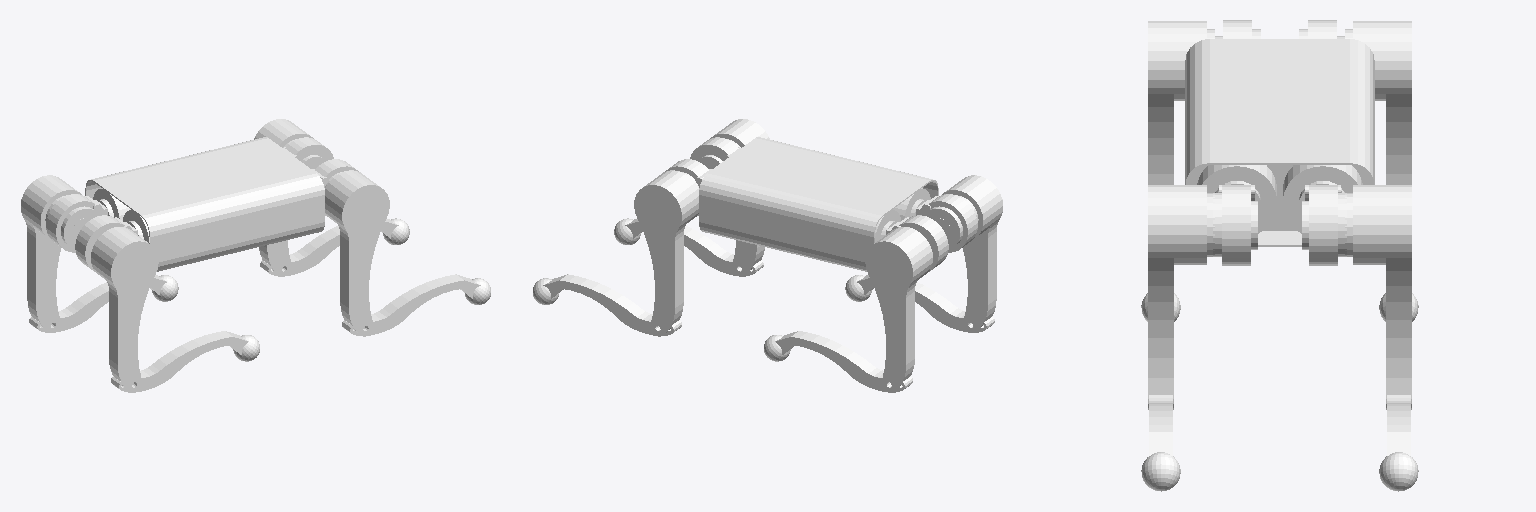
robot.urdf — QXHZZ_description:
<?xml version="1.0" encoding="utf-8"?>
<!-- This URDF was automatically created by SolidWorks to URDF Exporter! Originally created by Stephen Brawner (brawner@gmail.com) 
     Commit Version: 1.6.0-1-g15f4949  Build Version: 1.6.7594.29634
     For more information, please see http://wiki.ros.org/sw_urdf_exporter -->
<robot name="QXHZZ_description">
  <mujoco>
    <compiler meshdir="../meshes/" balanceinertia="true" discardvisual="false" autolimits="true" />
  </mujoco>
  <link name="base">
    <inertial>
      <origin xyz="-4.5586E-19 7.1229E-19 0" rpy="0 0 0" />
      <mass value="0" />
      <inertia ixx="7.5902E-06" ixy="-2.3832E-38" ixz="0" iyy="5.2382E-06" iyz="2.3545E-22" izz="1.1605E-05" />
    </inertial>
    <visual>
      <origin xyz="0 0 0" rpy="0 0 0" />
      <geometry>
        <mesh filename="../meshes/base_link.STL" />
      </geometry>
      <material name="">
        <color rgba="0.77647 0.75686 0.73725 1" />
      </material>
    </visual>
    <collision>
      <origin xyz="0 0 0" rpy="0 0 0" />
      <geometry>
        <mesh filename="../meshes/base_link.STL" />
      </geometry>
    </collision>
  </link>
  <link name="trunk">
    <inertial>
      <origin xyz="4.6426E-19 -2.7756E-17 2.7406E-17" rpy="0 0 0" />
      <mass value="5.36" />
      <inertia ixx="55862e-6" ixy="0.000000" ixz="0.000000" iyy="96172.757e-6" iyz="0.000000" izz="111591.548e-6" />
    </inertial>
    <visual>
      <origin xyz="0 0 0" rpy="0 0 0" />
      <geometry>
        <mesh filename="../meshes/shenzi.STL" />
      </geometry>
      <material name="">
        <color rgba="1 1 1 1" />
      </material>
    </visual>
    <collision>
      <origin xyz="0 0 0" rpy="0 0 0" />
      <geometry>
        <!-- <box size="0.325 0.27 0.16" /> -->
        <mesh filename="../meshes/shenzi.STL" />
      </geometry>
    </collision>
  </link>
  <joint name="floating_base" type="fixed">
    <origin xyz="0 0 0" rpy="0 0 0" />
    <parent link="base" />
    <child link="trunk" />
    <axis xyz="0 0 0" />
  </joint>
  <joint name="imu_joint" type="fixed">
    <parent link="trunk"/>
    <child link="imu_link"/>
    <origin rpy="0 0 0" xyz="0 0 0"/>
  </joint>
  <!-- #虚拟关节 -->
  <link name="imu_link">
    <inertial>
      <mass value="0.001"/>
      <origin rpy="0 0 0" xyz="0 0 0"/>
      <inertia ixx="0.0001" ixy="0" ixz="0" iyy="0.0001" iyz="0" izz="0.0001"/>
    </inertial>
    <visual>
      <origin rpy="0 0 0" xyz="0 0 0"/>
      <geometry>
        <box size="0.001 0.001 0.001"/>
      </geometry>
      <material name="red"/>
    </visual>
    <!-- <collision>
      <origin rpy="0 0 0" xyz="0 0 0"/>
      <geometry>
        <box size=".001 .001 .001"/>
      </geometry>
    </collision> -->
  </link>
  <link name="FL_hip">
    <inertial>
      <origin xyz="-0.040294 -0.0010631 6.4131E-06" rpy="0 0 0" />
      <mass value="0.80054" />
      <inertia ixx="567.387e-6" ixy="4.141e-6" ixz="0.000000" iyy="893.106e-6" iyz="0.000000" izz="630.935e-6" />
    </inertial>
    <visual>
      <origin xyz="0 0 0" rpy="0 0 0" />
      <geometry>
        <mesh filename="../meshes/yq1.STL" />
      </geometry>
      <material name="">
        <color rgba="1 1 1 1" />
      </material>
    </visual>
    <collision>
      <origin xyz="0 0 0" rpy="0 0 0" />
      <geometry>
        <mesh filename="../meshes/yq1.STL" />
      </geometry>
    </collision>
  </link>
  <joint name="FL_hip_joint" type="revolute">
    <origin xyz="0.22599 0.05 0" rpy="0 0 0" />
    <parent link="trunk" />
    <child link="FL_hip" />
    <axis xyz="1 0 0" />
    <limit lower="-1.570796" upper="1.570796" effort="48" velocity="25" />
  </joint>
  <link name="FL_thigh">
    <inertial>
      <origin xyz="0.0030535 -0.015391 -0.04077" rpy="0 0 0" />
      <mass value="1.22" />
      <inertia ixx="8707.219e-6" ixy="0.000000" ixz="487.508e-6" iyy="8424.086e-6" iyz="0.000000" izz="1382.252e-6" />
    </inertial>
    <visual>
      <origin xyz="0 0 0" rpy="0 0 0" />
      <geometry>
        <mesh filename="../meshes/zh2.STL" />
      </geometry>
      <material name="">
        <color rgba="1 1 1 1" />
      </material>
    </visual>
    <collision>
      <origin xyz="0 0 0" rpy="0 0 0" />
      <geometry>
        <mesh filename="../meshes/zh2.STL" />
      </geometry>
    </collision>
  </link>
  <joint name="FL_thigh_joint" type="revolute">
    <origin xyz="0 0.088241 0" rpy="0 0 0" />
    <parent link="FL_hip" />
    <child link="FL_thigh" />
    <axis xyz="0 1 0" />
    <limit lower="-1.570796" upper="3.141593" effort="48" velocity="25" />
  </joint>
  <link name="FL_calf">
    <inertial>
      <origin xyz="-0.0088301 -1.0588E-06 -0.12441" rpy="0 0 0" />
      <mass value="0.53021" />
      <inertia ixx="4322.324e-6" ixy="-0.001e-6" ixz="-254.221e-6" iyy="4363.782e-6" iyz="-0.004e-6" izz="70.443e-6" />
    </inertial>
    <visual>
      <origin xyz="0 0 0" rpy="0 0 0" />
      <geometry>
        <mesh filename="../meshes/zh3.STL" />
      </geometry>
      <material name="">
        <color rgba="1 1 1 1" />
      </material>
    </visual>
    <collision>
      <origin xyz="0 0 0" rpy="0 0 0" />
      <geometry>
        <mesh filename="../meshes/zh3.STL" />
      </geometry>
    </collision>
  </link>
  <joint name="FL_calf_joint" type="revolute">
    <origin xyz="0 0 -0.22023" rpy="0 0 0" />
    <parent link="FL_thigh" />
    <child link="FL_calf" />
    <axis xyz="0 1 0" />
    <limit lower="-2.705260" upper="-0.523599" effort="48" velocity="25" />
  </joint>
  <joint name="FL_foot_fixed" type="fixed" dont_collapse="true">
    <origin rpy="0 0 0" xyz="0 0 -0.22"/>
    <parent link="FL_calf"/>
    <child link="FL_foot"/>
  </joint>
  <!-- #前右固定脚踝 -->
  <link name="FL_foot">
    <visual>
      <origin rpy="0 0 0" xyz="0 0 0"/>
      <geometry>
        <sphere radius="0.01"/>
      </geometry>
      <material name="orange"/>
    </visual>
    <collision>
      <origin rpy="0 0 0" xyz="0 0 0"/>
      <geometry>
        <sphere radius="0.02"/>
      </geometry>
    </collision>
    <inertial>
      <mass value="0.06"/>
      <inertia ixx="9.6e-06" ixy="0.0" ixz="0.0" iyy="9.6e-06" iyz="0.0" izz="9.6e-06"/>
    </inertial>
  </link>
  <link name="FR_hip">
    <inertial>
      <origin xyz="-0.040294 0.0010631 6.4131E-06" rpy="0 0 0" />
      <mass value="0.80054" />
      <inertia ixx="567.387e-6" ixy="4.141e-6" ixz="0.000000" iyy="893.106e-6" iyz="0.000000" izz="630.935e-6" />
    </inertial>
    <visual>
      <origin xyz="0 0 0" rpy="0 0 0" />
      <geometry>
        <mesh filename="../meshes/zq1.STL" />
      </geometry>
      <material name="">
        <color rgba="1 1 1 1" />
      </material>
    </visual>
    <collision>
      <origin xyz="0 0 0" rpy="0 0 0" />
      <geometry>
        <mesh filename="../meshes/zq1.STL" />
      </geometry>
    </collision>
  </link>
  <joint name="FR_hip_joint" type="revolute">
    <origin xyz="0.22599 -0.05 0" rpy="0 0 0" />
    <parent link="trunk" />
    <child link="FR_hip" />
    <axis xyz="1 0 0" />
    <limit lower="-1.570796" upper="1.570796" effort="48" velocity="25" />
  </joint>
  <link name="FR_thigh">
    <inertial>
      <origin xyz="0.0030535 0.015391 -0.04077" rpy="0 0 0" />
      <mass value="1.22" />
      <inertia ixx="8707.219e-6" ixy="0.000000" ixz="487.508e-6" iyy="8424.086e-6" iyz="0.000000" izz="1382.252e-6" />
    </inertial>
    <visual>
      <origin xyz="0 0 0" rpy="0 0 0" />
      <geometry>
        <mesh filename="../meshes/yh2.STL" />
      </geometry>
      <material name="">
        <color rgba="1 1 1 1" />
      </material>
    </visual>
    <collision>
      <origin xyz="0 0 0" rpy="0 0 0" />
      <geometry>
        <mesh filename="../meshes/yh2.STL" />
      </geometry>
    </collision>
  </link>
  <joint name="FR_thigh_joint" type="revolute">
    <origin xyz="0 -0.088241 0" rpy="0 0 0" />
    <parent link="FR_hip" />
    <child link="FR_thigh" />
    <axis xyz="0 1 0" />
    <limit lower="-1.570796" upper="3.141593" effort="48" velocity="25" />
  </joint>
  <link name="FR_calf">
    <inertial>
      <origin xyz="-0.0088301 1.0703E-06 -0.12441" rpy="0 0 0" />
      <mass value="0.53021" />
      <inertia ixx="4322.324e-6" ixy="-0.001e-6" ixz="-254.221e-6" iyy="4363.782e-6" iyz="-0.004e-6" izz="70.443e-6" />
    </inertial>
    <visual>
      <origin xyz="0 0 0" rpy="0 0 0" />
      <geometry>
        <mesh filename="../meshes/yh3.STL" />
      </geometry>
      <material name="">
        <color rgba="1 1 1 1" />
      </material>
    </visual>
    <collision>
      <origin xyz="0 0 0" rpy="0 0 0" />
      <geometry>
        <mesh filename="../meshes/yh3.STL" />
      </geometry>
    </collision>
  </link>
  <joint name="FR_calf_joint" type="revolute">
    <origin xyz="0 0 -0.22023" rpy="0 0 0" />
    <parent link="FR_thigh" />
    <child link="FR_calf" />
    <axis xyz="0 1 0" />
    <limit lower="-2.705260" upper="-0.523599" effort="48" velocity="25" />
  </joint>
  <joint name="FR_foot_fixed" type="fixed" dont_collapse="true">
    <origin rpy="0 0 0" xyz="0 0 -0.22"/>
    <parent link="FR_calf"/>
    <child link="FR_foot"/>
  </joint>
  <!-- #前右固定脚踝 -->
  <link name="FR_foot">
    <visual>
      <origin rpy="0 0 0" xyz="0 0 0"/>
      <geometry>
        <sphere radius="0.01"/>
      </geometry>
      <material name="orange"/>
    </visual>
    <collision>
      <origin rpy="0 0 0" xyz="0 0 0"/>
      <geometry>
        <sphere radius="0.02"/>
      </geometry>
    </collision>
    <inertial>
      <mass value="0.06"/>
      <inertia ixx="9.6e-06" ixy="0.0" ixz="0.0" iyy="9.6e-06" iyz="0.0" izz="9.6e-06"/>
    </inertial>
  </link>
  <link name="RL_hip">
    <inertial>
      <origin xyz="0.040294 -0.0010631 6.4131E-06" rpy="0 0 0" />
      <mass value="0.80054" />
      <inertia ixx="567.387e-6" ixy="4.141e-6" ixz="0.000000" iyy="893.106e-6" iyz="0.000000" izz="630.935e-6" />
    </inertial>
    <visual>
      <origin xyz="0 0 0" rpy="0 0 0" />
      <geometry>
        <mesh filename="../meshes/zh1.STL" />
      </geometry>
      <material name="">
        <color rgba="1 1 1 1" />
      </material>
    </visual>
    <collision>
      <origin xyz="0 0 0" rpy="0 0 0" />
      <geometry>
        <mesh filename="../meshes/zh1.STL" />
      </geometry>
    </collision>
  </link>
  <joint name="RL_hip_joint" type="revolute">
    <origin xyz="-0.22599 0.05 0" rpy="0 0 0" />
    <parent link="trunk" />
    <child link="RL_hip" />
    <axis xyz="1 0 0" />
    <limit lower="-1.570796" upper="1.570796" effort="48" velocity="25" />
  </joint>
  <link name="RL_thigh">
    <inertial>
      <origin xyz="-0.0030535 -0.015391 -0.04077" rpy="0 0 0" />
      <mass value="1.22" />
      <inertia ixx="8707.219e-6" ixy="0.000000" ixz="487.508e-6" iyy="8424.086e-6" iyz="0.000000" izz="1382.252e-6" />
    </inertial>
    <visual>
      <origin xyz="0 0 0" rpy="0 0 0" />
      <geometry>
        <mesh filename="../meshes/zh2.STL" />
      </geometry>
      <material name="">
        <color rgba="1 1 1 1" />
      </material>
    </visual>
    <collision>
      <origin xyz="0 0 0" rpy="0 0 0" />
      <geometry>
        <mesh filename="../meshes/zh2.STL" />
      </geometry>
    </collision>
  </link>
  <joint name="RL_thigh_joint" type="revolute">
    <origin xyz="0 0.088241 0" rpy="0 0 0" />
    <parent link="RL_hip" />
    <child link="RL_thigh" />
    <axis xyz="0 1 0" />
    <limit lower="-1.570796" upper="3.141593" effort="48" velocity="25" />
  </joint>
  <link name="RL_calf">
    <inertial>
      <origin xyz="0.0088301 -1.0703E-06 -0.12441" rpy="0 0 0" />
      <mass value="0.53021" />
      <inertia ixx="4322.324e-6" ixy="-0.001e-6" ixz="-254.221e-6" iyy="4363.782e-6" iyz="-0.004e-6" izz="70.443e-6" />
    </inertial>
    <visual>
      <origin xyz="0 0 0" rpy="0 0 0" />
      <geometry>
        <mesh filename="../meshes/zh3.STL" />
      </geometry>
      <material name="">
        <color rgba="1 1 1 1" />
      </material>
    </visual>
    <collision>
      <origin xyz="0 0 0" rpy="0 0 0" />
      <geometry>
        <mesh filename="../meshes/zh3.STL" />
      </geometry>
    </collision>
  </link>
  <joint name="RL_calf_joint" type="revolute">
    <origin xyz="0 0 -0.22023" rpy="0 0 0" />
    <parent link="RL_thigh" />
    <child link="RL_calf" />
    <axis xyz="0 1 0" />
    <limit lower="-2.705260" upper="-0.523599" effort="48" velocity="25" />
  </joint>
  <joint name="RL_foot_fixed" type="fixed" dont_collapse="true">
    <origin rpy="0 0 0" xyz="0 0 -0.22"/>
    <parent link="RL_calf"/>
    <child link="RL_foot"/>
  </joint>
  <!-- #前右固定脚踝 -->
  <link name="RL_foot">
    <visual>
      <origin rpy="0 0 0" xyz="0 0 0"/>
      <geometry>
        <sphere radius="0.01"/>
      </geometry>
      <material name="orange"/>
    </visual>
    <collision>
      <origin rpy="0 0 0" xyz="0 0 0"/>
      <geometry>
        <sphere radius="0.02"/>
      </geometry>
    </collision>
    <inertial>
      <mass value="0.06"/>
      <inertia ixx="9.6e-06" ixy="0.0" ixz="0.0" iyy="9.6e-06" iyz="0.0" izz="9.6e-06"/>
    </inertial>
  </link>
  <link name="RR_hip">
    <inertial>
      <origin xyz="0.040294 0.0010631 6.4131E-06" rpy="0 0 0" />
      <mass value="0.80054" />
      <inertia ixx="567.387e-6" ixy="4.141e-6" ixz="0.000000" iyy="893.106e-6" iyz="0.000000" izz="630.935e-6" />
    </inertial>
    <visual>
      <origin xyz="0 0 0" rpy="0 0 0" />
      <geometry>
        <mesh filename="../meshes/yh1.STL" />
      </geometry>
      <material name="">
        <color rgba="1 1 1 1" />
      </material>
    </visual>
    <collision>
      <origin xyz="0 0 0" rpy="0 0 0" />
      <geometry>
        <mesh filename="../meshes/yh1.STL" />
      </geometry>
    </collision>
  </link>
  <joint name="RR_hip_joint" type="revolute">
    <origin xyz="-0.22599 -0.05 0" rpy="0 0 0" />
    <parent link="trunk" />
    <child link="RR_hip" />
    <axis xyz="1 0 0" />
    <limit lower="-1.570796" upper="1.570796" effort="48" velocity="25" />
  </joint>
  <link name="RR_thigh">
    <inertial>
      <origin xyz="-0.0030535 0.015391 -0.04077" rpy="0 0 0" />
      <mass value="1.22" />
      <inertia ixx="8707.219e-6" ixy="0.000000" ixz="487.508e-6" iyy="8424.086e-6" iyz="0.000000" izz="1382.252e-6" />
    </inertial>
    <visual>
      <origin xyz="0 0 0" rpy="0 0 0" />
      <geometry>
        <mesh filename="../meshes/yh2.STL" />
      </geometry>
      <material name="">
        <color rgba="1 1 1 1" />
      </material>
    </visual>
    <collision>
      <origin xyz="0 0 0" rpy="0 0 0" />
      <geometry>
        <mesh filename="../meshes/yh2.STL" />
      </geometry>
    </collision>
  </link>
  <joint name="RR_thigh_joint" type="revolute">
    <origin xyz="0 -0.088241 0" rpy="0 0 0" />
    <parent link="RR_hip" />
    <child link="RR_thigh" />
    <axis xyz="0 1 0" />
    <limit lower="-1.570796" upper="3.141593" effort="48" velocity="25" />
  </joint>
  <link name="RR_calf">
    <inertial>
      <origin xyz="0.0088301 1.0588E-06 -0.12441" rpy="0 0 0" />
      <mass value="0.53021" />
      <inertia ixx="4322.324e-6" ixy="-0.001e-6" ixz="-254.221e-6" iyy="4363.782e-6" iyz="-0.004e-6" izz="70.443e-6" />
    </inertial>
    <visual>
      <origin xyz="0 0 0" rpy="0 0 0" />
      <geometry>
        <mesh filename="../meshes/yh3.STL" />
      </geometry>
      <material name="">
        <color rgba="1 1 1 1" />
      </material>
    </visual>
    <collision>
      <origin xyz="0 0 0" rpy="0 0 0" />
      <geometry>
        <mesh filename="../meshes/yh3.STL" />
      </geometry>
    </collision>
  </link>
  <joint name="RR_calf_joint" type="revolute">
    <origin xyz="0 0 -0.22023" rpy="0 0 0" />
    <parent link="RR_thigh" />
    <child link="RR_calf" />
    <axis xyz="0 1 0" />
    <limit lower="-2.705260" upper="-0.523599" effort="48" velocity="25" />
  </joint>
  <joint name="RR_foot_fixed" type="fixed" dont_collapse="true">
    <origin rpy="0 0 0" xyz="0 0 -0.22"/>
    <parent link="RR_calf"/>
    <child link="RR_foot"/>
  </joint>
  <!-- #前右固定脚踝 -->
  <link name="RR_foot">
    <visual>
      <origin rpy="0 0 0" xyz="0 0 0"/>
      <geometry>
        <sphere radius="0.01"/>
      </geometry>
      <material name="orange"/>
    </visual>
    <collision>
      <origin rpy="0 0 0" xyz="0 0 0"/>
      <geometry>
        <sphere radius="0.02"/>
      </geometry>
    </collision>
    <inertial>
      <mass value="0.06"/>
      <inertia ixx="9.6e-06" ixy="0.0" ixz="0.0" iyy="9.6e-06" iyz="0.0" izz="9.6e-06"/>
    </inertial>
  </link>
</robot>

--- What the picture shows (computed from the rendered views, not written in the file) ---
Views: 3 orthographic renders of the robot side by side, from view 1: azimuth 30°, elevation 25°; view 2: azimuth 150°, elevation 25°; view 3: azimuth 270°, elevation 25°.
Robot: QXHZZ_description — 19 links, 18 joints (12 revolute, 6 fixed); root link base; default pose: joints at zero except 4 at the middle of their limits (FL_calf_joint = -1.61, FR_calf_joint = -1.61, RL_calf_joint = -1.61, RR_calf_joint = -1.61).
Visible links, largest first — view 1: trunk, RR_thigh, FR_thigh, RL_thigh, RR_calf, FR_calf, RL_hip, FL_calf, RL_calf, FL_thigh, RR_hip, FL_hip (+1 smaller); view 2: trunk, RL_thigh, FL_thigh, RR_thigh, RL_calf, FL_calf, RR_hip, FR_calf, RR_calf, FR_thigh, RL_hip, FR_hip (+1 smaller); view 3: trunk, FL_thigh, FR_thigh, RL_thigh, RR_thigh, FL_hip, FR_hip, FL_calf, FR_calf, RL_hip, RR_hip.
Link boxes in pixels (box(x1,y1,x2,y2)): trunk: box(85, 137, 324, 271); RR_thigh: box(91, 227, 158, 392); FR_thigh: box(325, 170, 389, 336); RL_thigh: box(21, 175, 81, 332); RR_calf: box(111, 331, 259, 392); FR_calf: box(342, 274, 490, 335); RL_hip: box(46, 188, 130, 252); FL_calf: box(260, 218, 409, 276); RL_calf: box(29, 275, 178, 332); FL_thigh: box(254, 119, 313, 276); RR_hip: box(75, 210, 149, 271); FL_hip: box(283, 137, 333, 168); trunk: box(699, 137, 938, 271); RL_thigh: box(865, 227, 932, 392); FL_thigh: box(634, 170, 698, 336); RR_thigh: box(942, 175, 1002, 332); RL_calf: box(764, 331, 912, 392); FL_calf: box(533, 274, 681, 335); RR_hip: box(893, 188, 977, 252); FR_calf: box(614, 218, 763, 276); RR_calf: box(845, 275, 994, 332); FR_thigh: box(710, 119, 769, 276); RL_hip: box(874, 210, 948, 271); FR_hip: box(690, 137, 740, 168); trunk: box(1185, 39, 1374, 246); FL_thigh: box(1345, 185, 1411, 409); FR_thigh: box(1148, 185, 1214, 409); RL_thigh: box(1345, 21, 1411, 184); RR_thigh: box(1148, 21, 1214, 184); FL_hip: box(1283, 165, 1362, 265); FR_hip: box(1197, 165, 1276, 265); FL_calf: box(1379, 395, 1418, 491); FR_calf: box(1141, 395, 1180, 491); RL_hip: box(1299, 20, 1344, 38); RR_hip: box(1215, 20, 1260, 38).
Bounding box of the posed robot: 0.7491 × 0.3221 × 0.29 m (x, y, z).
Meshes: 10 distinct files referenced, 14 mesh visuals loaded (10 binary STL).
